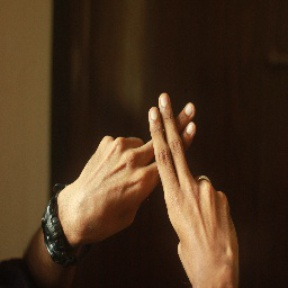F: (117, 84, 220, 210)
